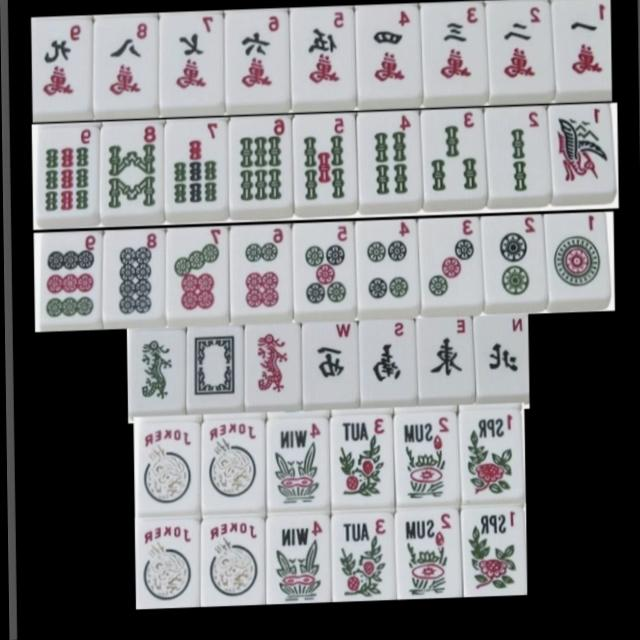bai: (188, 323, 243, 408)
east: (416, 317, 475, 400)
fa: (128, 332, 187, 414)
m1: (553, 0, 608, 92)
m2: (489, 3, 553, 93)
m3: (420, 4, 485, 97)
m4: (358, 7, 422, 102)
m5: (289, 10, 352, 106)
m6: (228, 11, 292, 110)
m7: (160, 14, 225, 114)
m8: (95, 19, 159, 118)
m9: (33, 18, 92, 115)
north: (472, 314, 528, 397)
s1: (550, 108, 612, 192)
s2: (489, 108, 545, 199)
s3: (420, 112, 480, 202)
s4: (355, 110, 418, 204)
s5: (292, 115, 358, 212)
s6: (230, 116, 292, 217)
s7: (167, 121, 230, 219)
s8: (98, 121, 162, 218)
s9: (37, 122, 99, 221)
south: (359, 319, 418, 403)
t1: (545, 211, 608, 300)
t2: (483, 214, 545, 307)
t3: (417, 215, 479, 311)
t4: (354, 219, 417, 315)
t5: (296, 222, 356, 320)
t6: (232, 224, 294, 320)
t7: (168, 226, 229, 322)
t8: (103, 229, 162, 321)
t9: (38, 231, 101, 329)
west: (301, 320, 359, 405)
zhong: (244, 321, 301, 406)
